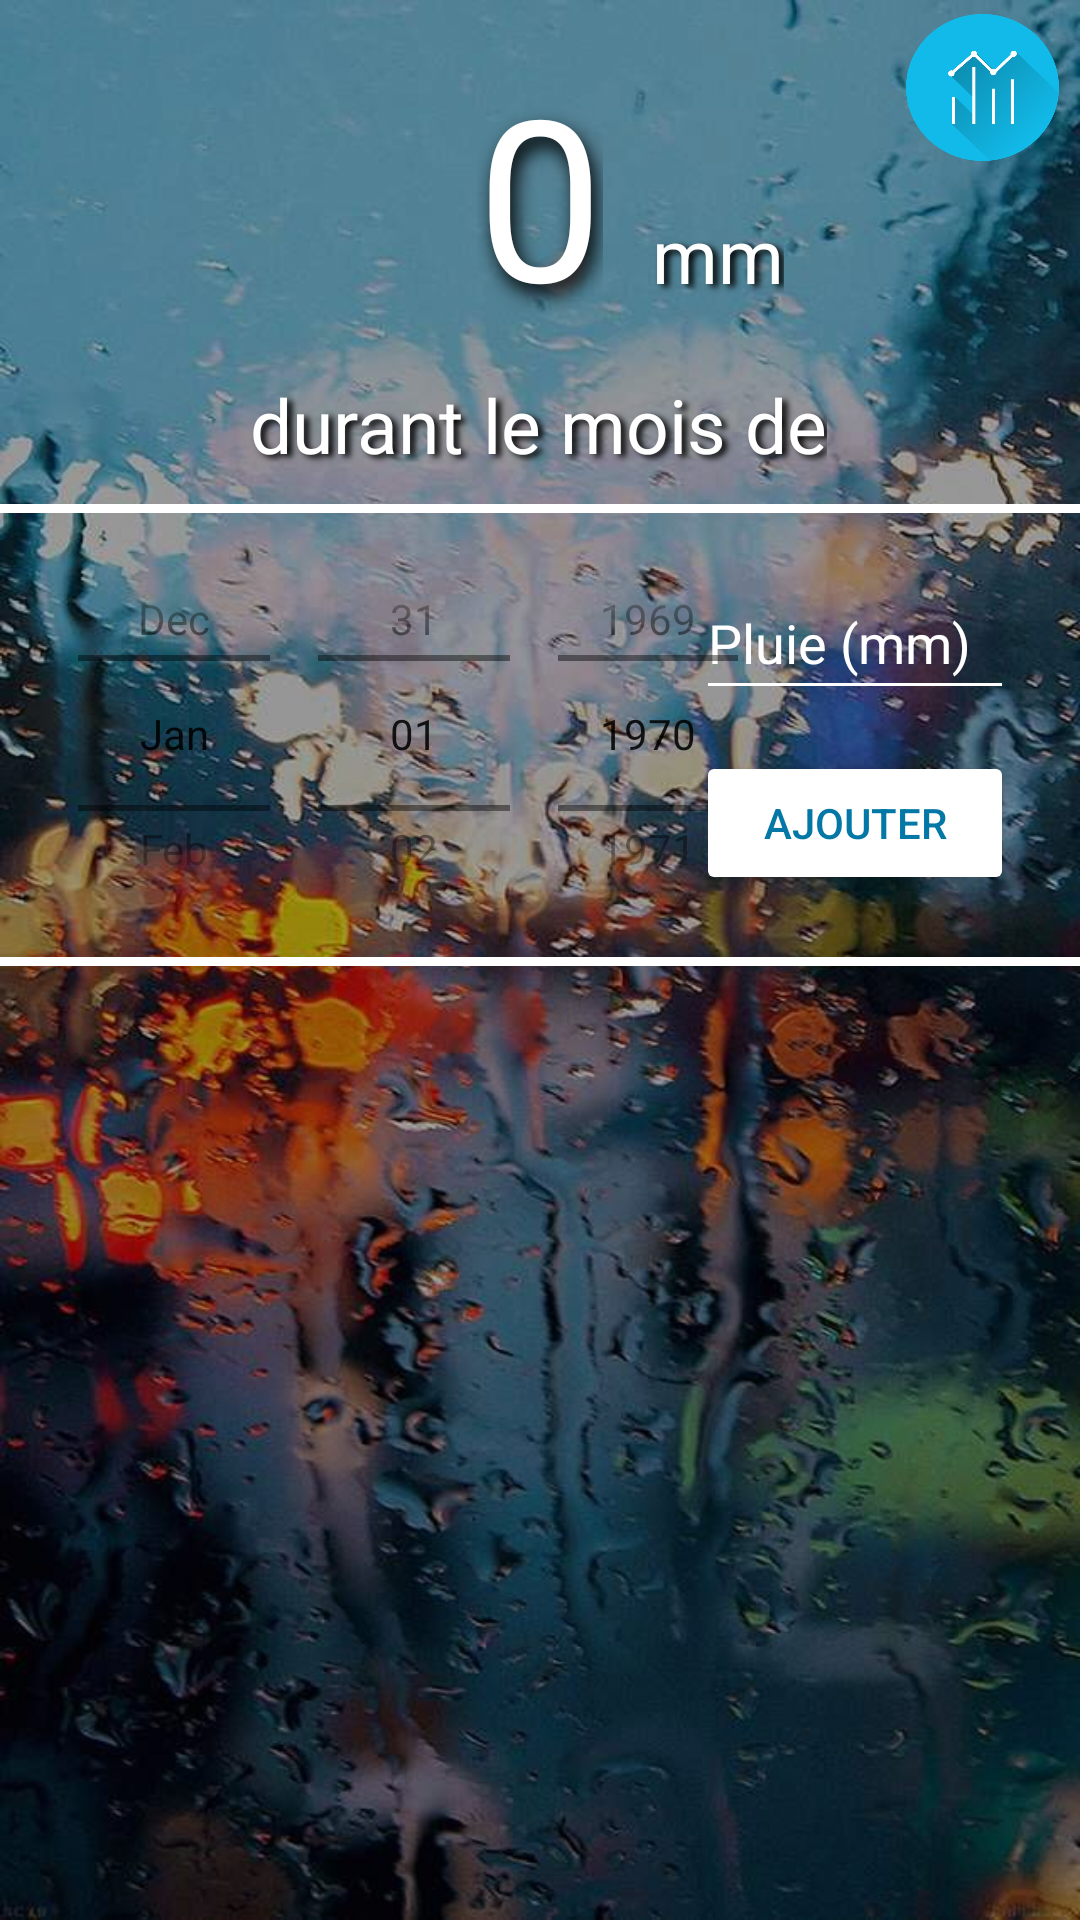

Icons on this 1080*1920 Android screen, each with the point to tap as (x,y):
Button to stats: (982,87)
